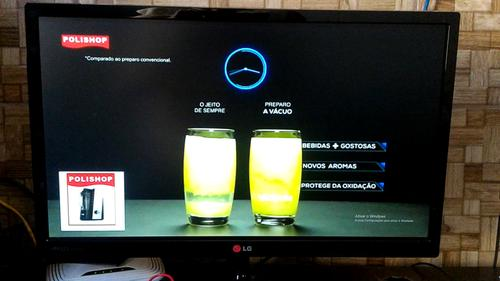Polishop #1: (57, 169, 126, 230)
